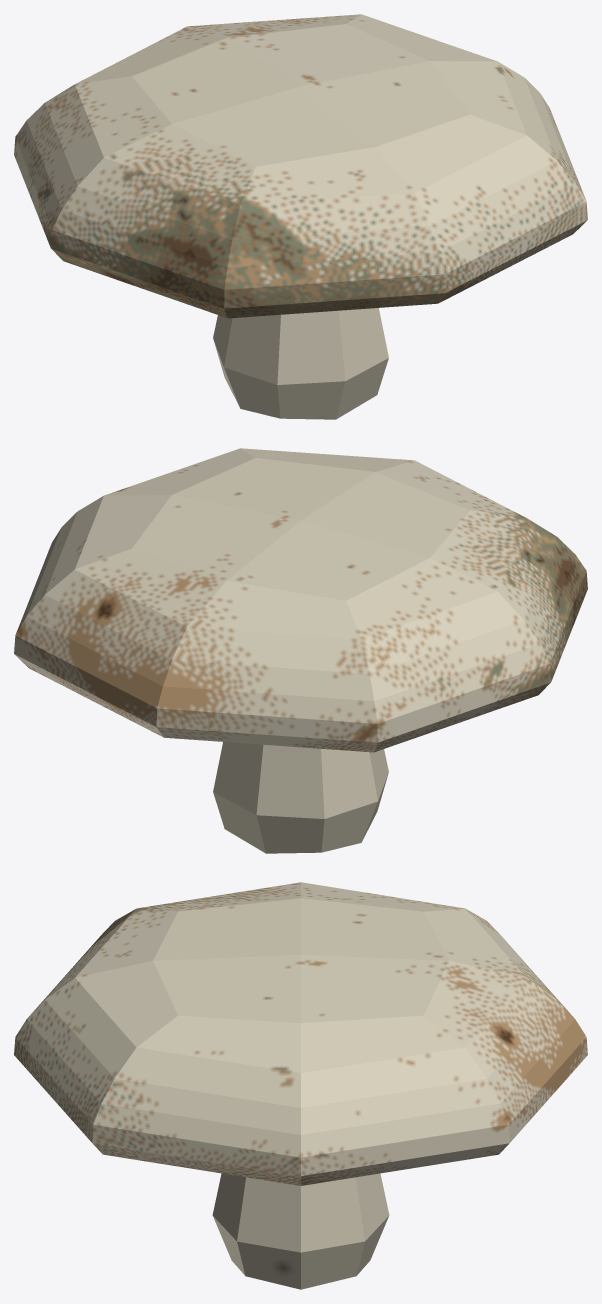
Rendered from cogumelo.fbx.
The picture shows the model from 3 angles, top to bottom: view 1: azimuth 30°, elevation 25°; view 2: azimuth 150°, elevation 25°; view 3: azimuth 270°, elevation 25°; orthographic projection.
Visible parts, largest first — view 1: cogumelo; view 2: cogumelo; view 3: cogumelo.
Boxes of the visible parts, box(x1,y1,x2,y2) form: cogumelo: box(14, 14, 587, 419); cogumelo: box(14, 448, 587, 853); cogumelo: box(14, 882, 587, 1289).
Bounding box in the file's own units: 124 × 76.85 × 124.
1 material, 1 textured.
